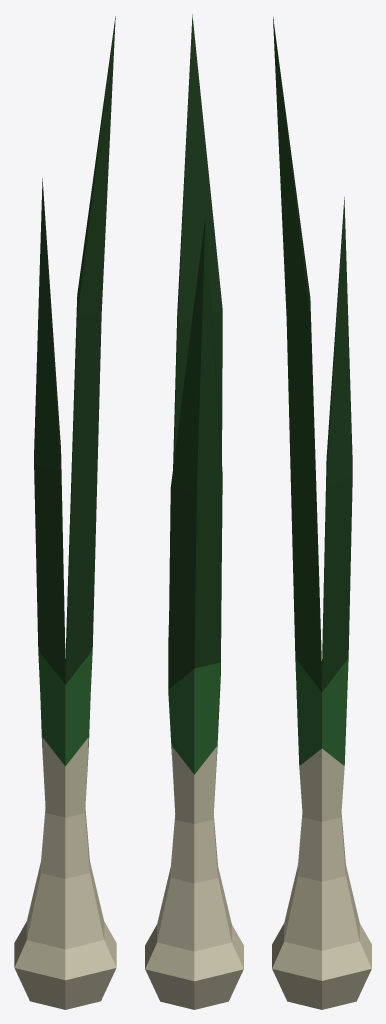
The model's file is 葱_1__pPrism1.FBX.
The picture shows the model from 3 angles, left to right: view 1: azimuth 90°, elevation 25°; view 2: azimuth 210°, elevation 25°; view 3: azimuth 270°, elevation 25°; orthographic projection. The views are drawn at different scales.
Visible parts, largest first — view 1: 葱_1__pPrism1; view 2: 葱_1__pPrism1; view 3: 葱_1__pPrism1.
Part boxes in pixels (x1,y1,x2,y2): 葱_1__pPrism1: [14, 16, 116, 1009]; 葱_1__pPrism1: [145, 14, 243, 1009]; 葱_1__pPrism1: [272, 17, 371, 1009].
Size of the model in its own units: 4.81 by 4.16 by 44.48.
